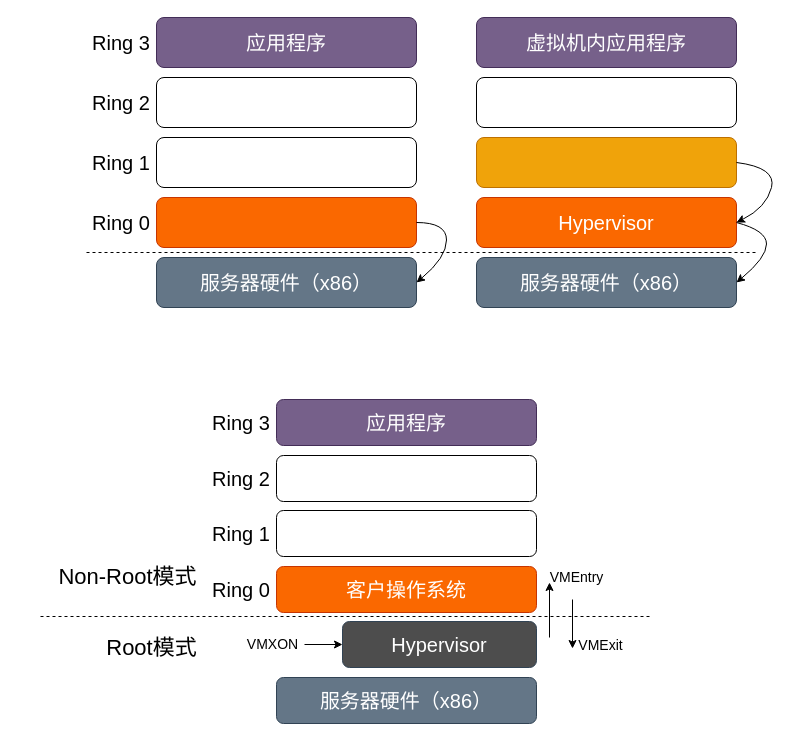
The diagram is 790 pixels wide and 741 high, and some of its shapes have lost their labels. The shapes that lost their labels are listed below. From the top down, each one's centre as x and y in pixels, then its label:
At point 606,162: "客户机操作系统".
At point 286,222: "操作系统内核（Win）".
